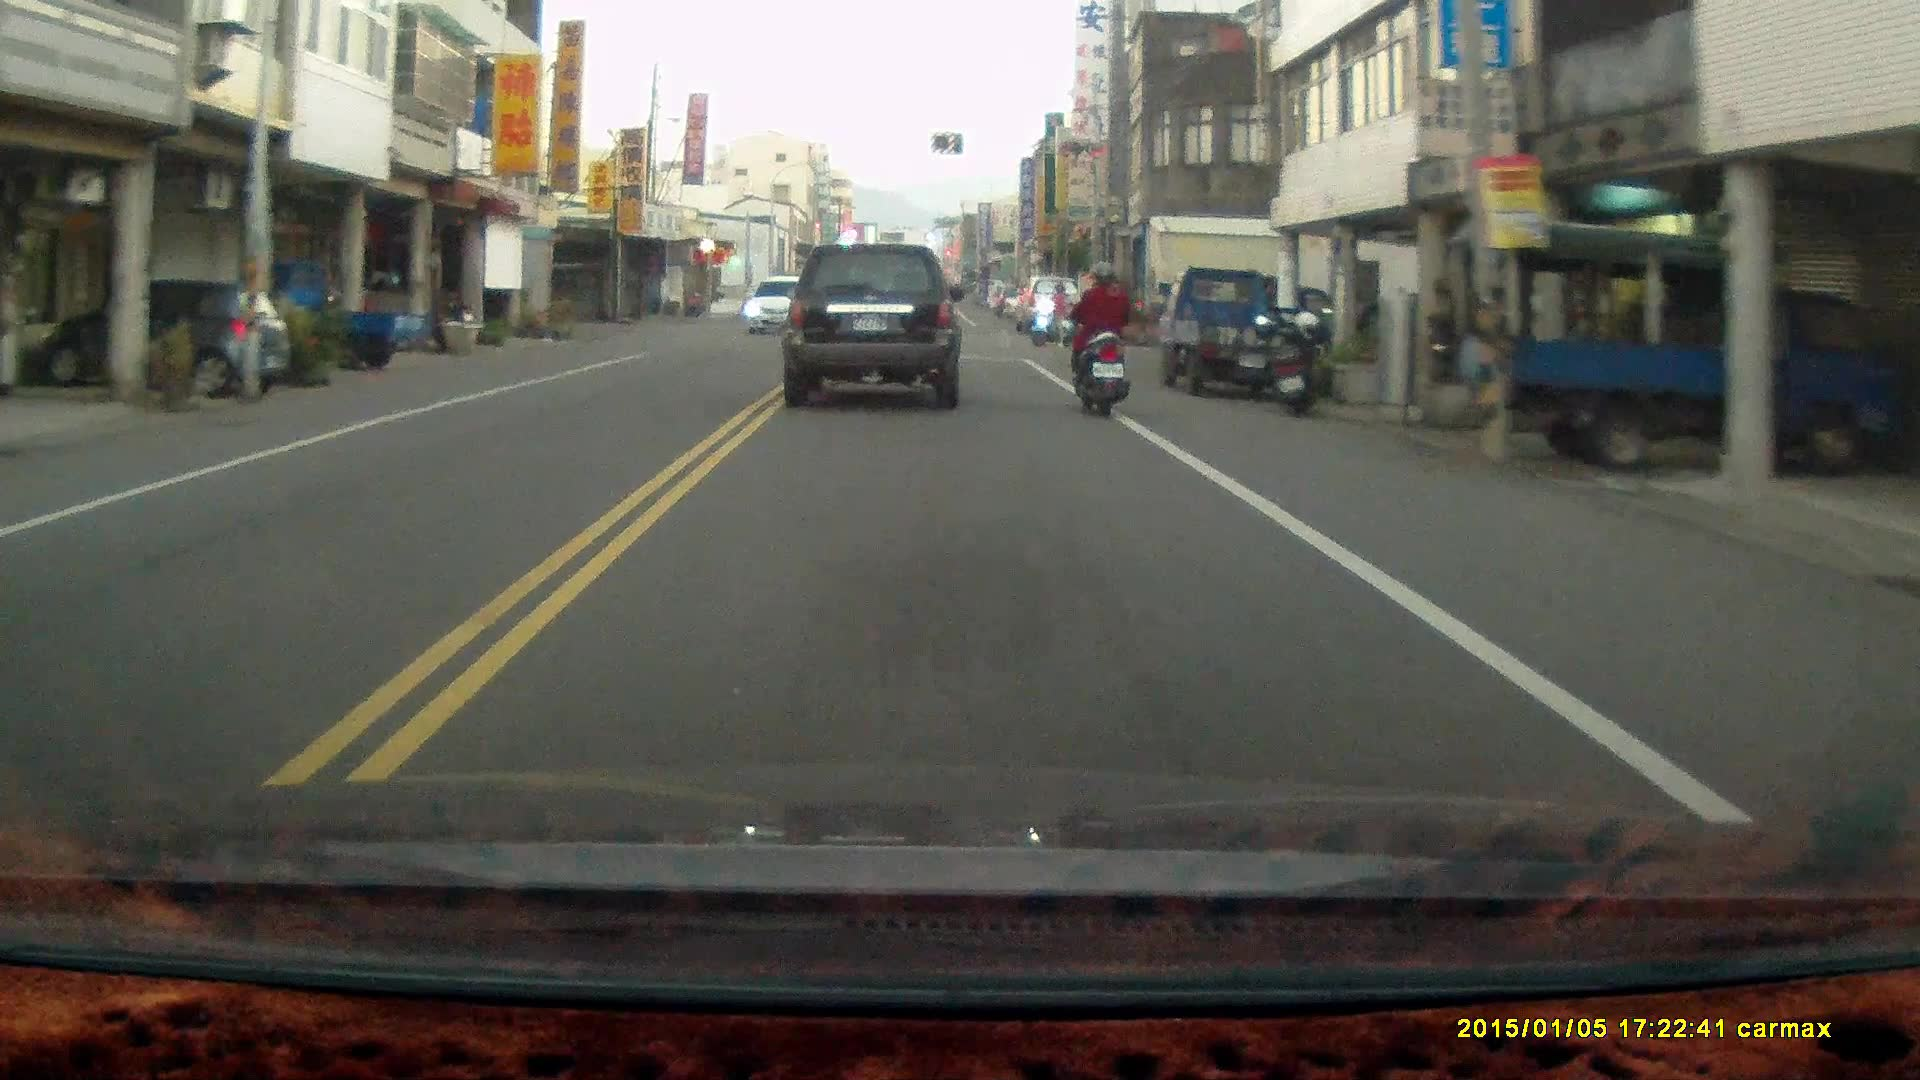rider: (1071, 258, 1129, 414), (1027, 280, 1072, 344)
vehicle: (1504, 223, 1901, 467), (37, 276, 290, 399), (784, 243, 964, 406), (1156, 267, 1324, 399), (237, 279, 434, 373), (746, 274, 815, 334)
